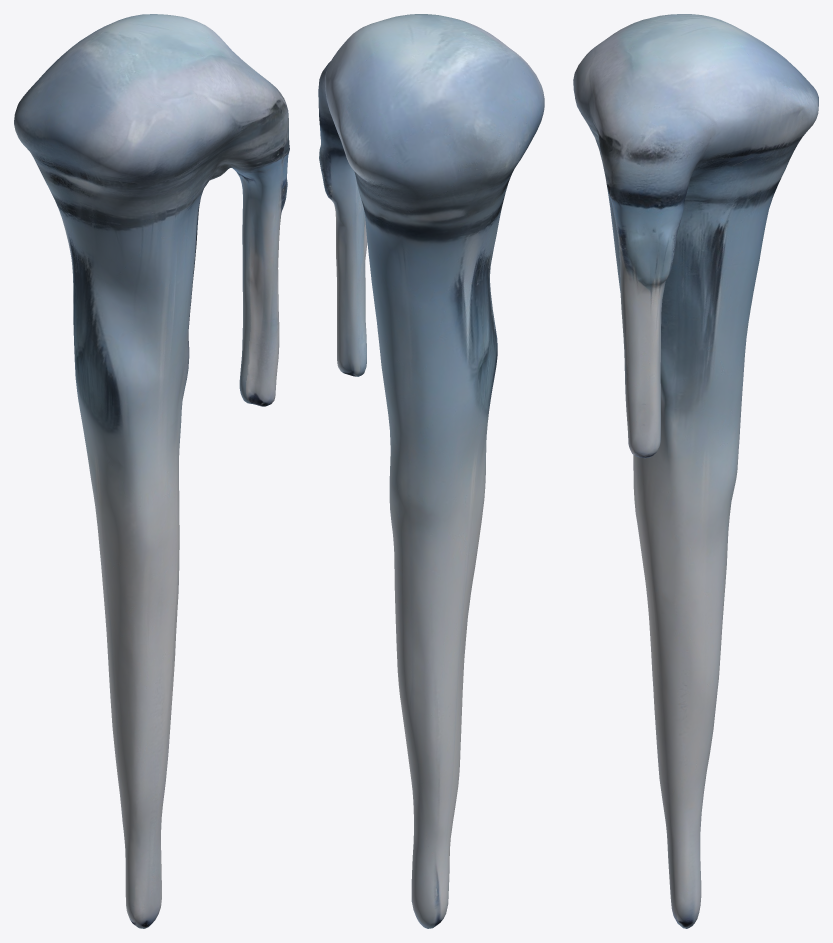
The model's file is icicle.glb.
3 renders of one model, left to right at view 1: azimuth 30°, elevation 25°; view 2: azimuth 150°, elevation 25°; view 3: azimuth 270°, elevation 25°, orthographic.
Bounding box in the file's own units: 0.5229 × 1.99 × 0.4911.
1 material, 1 textured.
